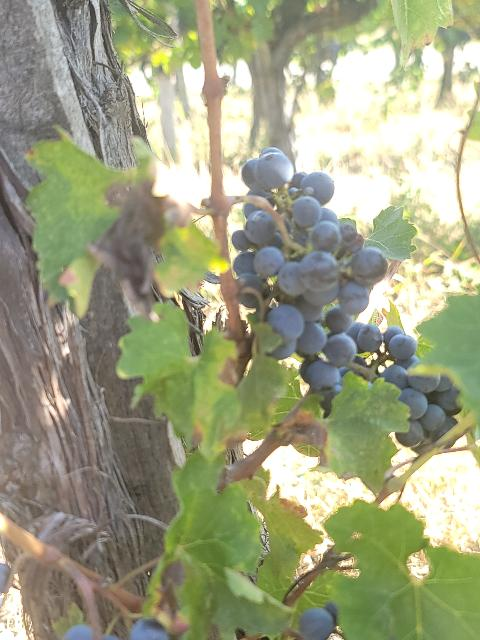grapes: (231, 149, 388, 411), (381, 326, 461, 452), (355, 325, 380, 351)
